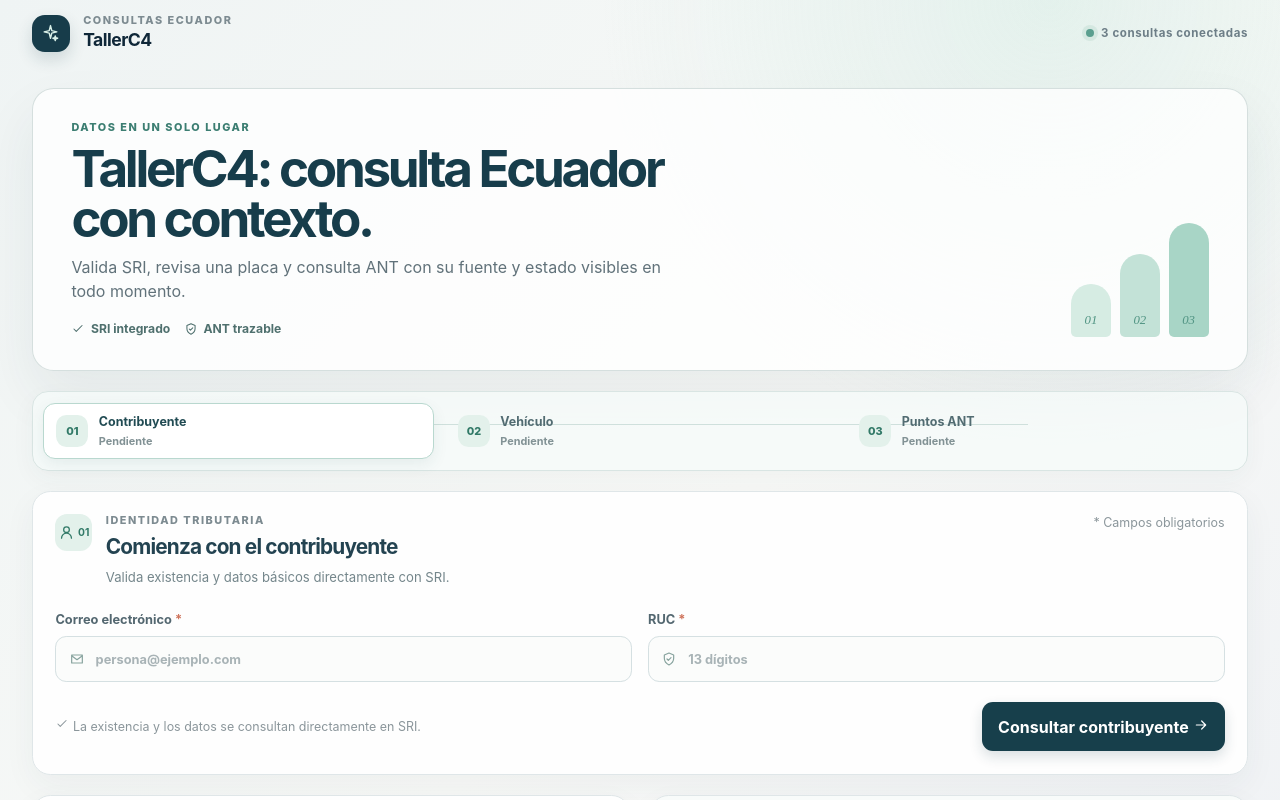
Test: TallerC4 app shell › shows validation feedback without calling the API
Click the button "Consultar contribuyente": (1103, 727) [982,702,1225,751]
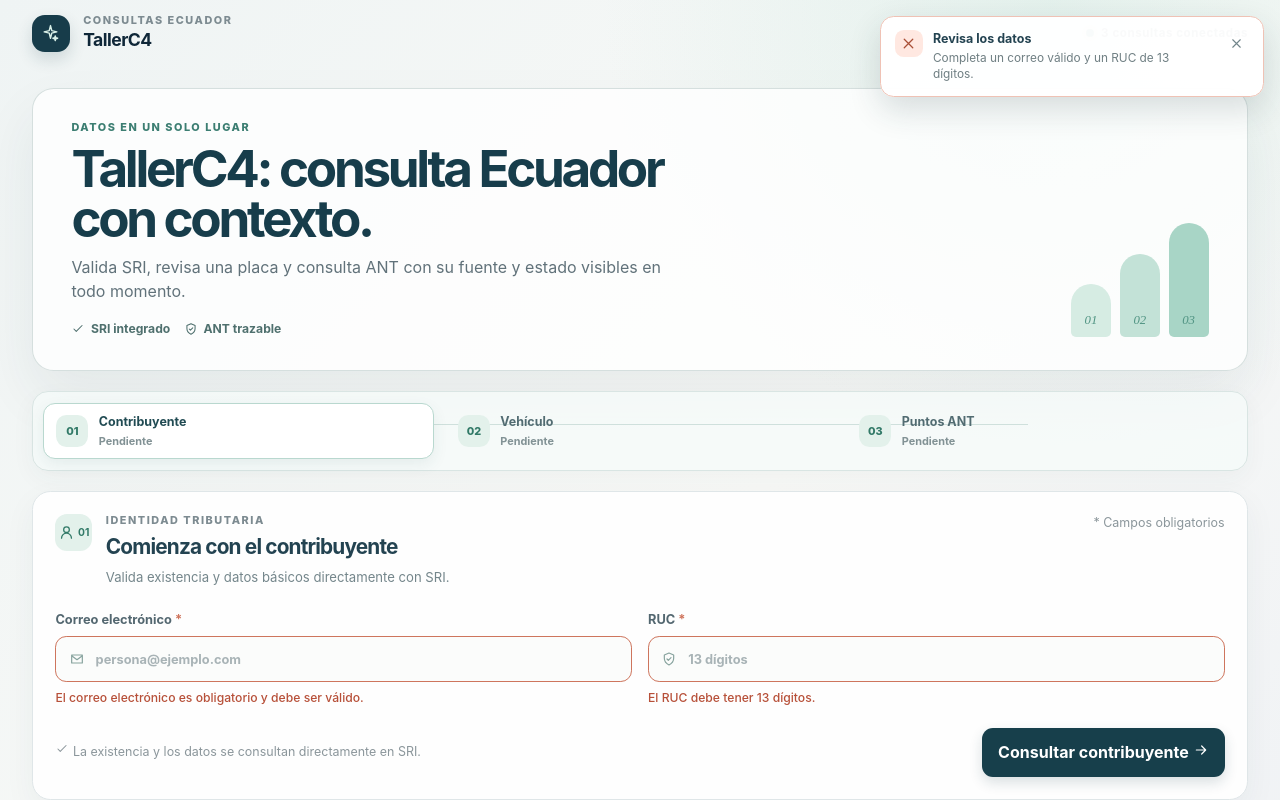
expect the text "El correo electrónico es obligatorio y debe ser válido." is shown: met, box [55,690,364,705]
expect the text "El RUC debe tener 13 dígitos." is shown: met, box [648,690,816,705]
